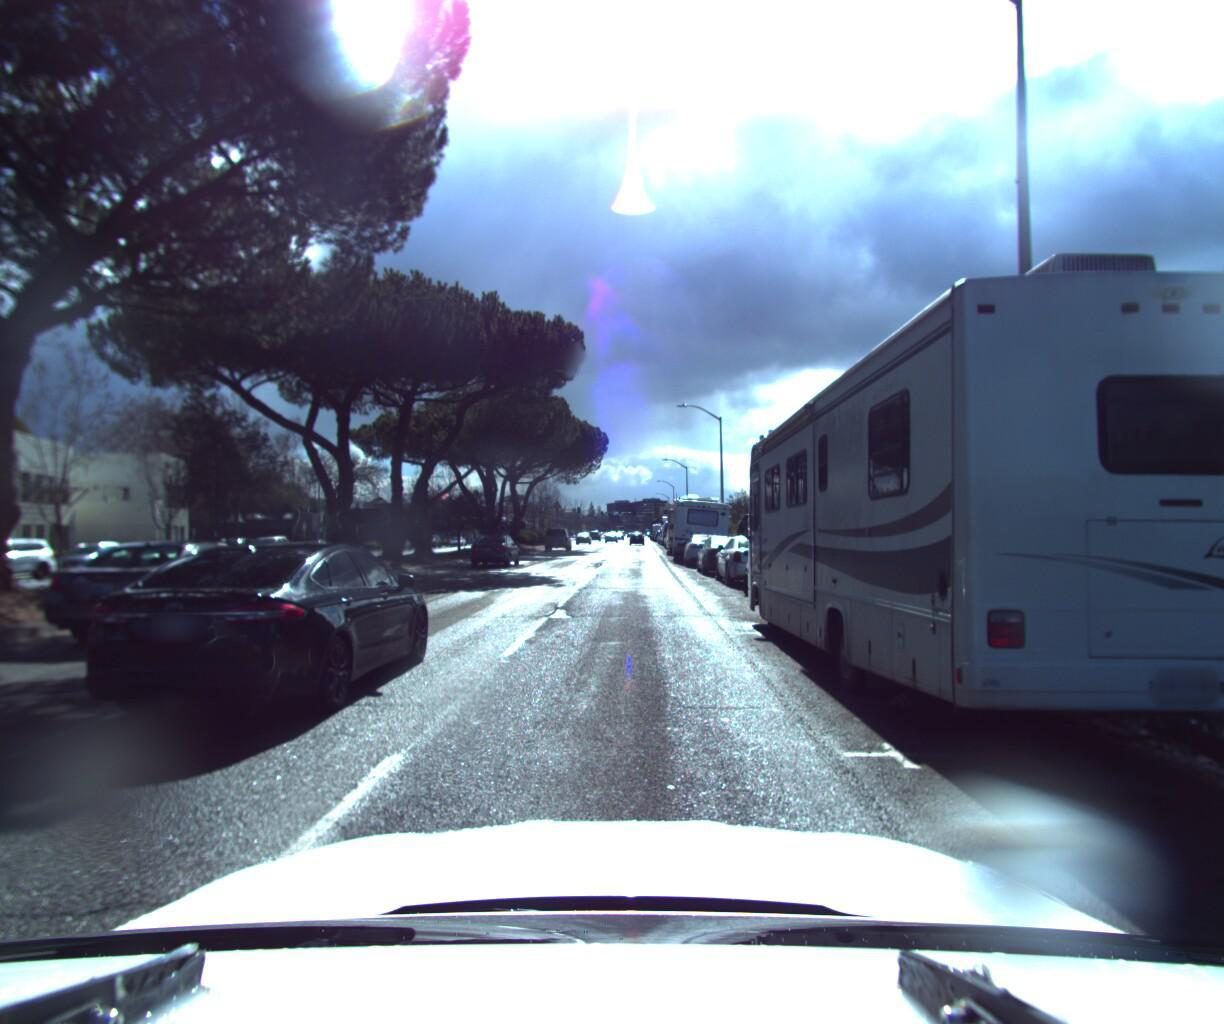car: (63, 526, 442, 731), (42, 537, 293, 652), (737, 525, 877, 609), (713, 527, 798, 584), (44, 540, 142, 582), (0, 535, 71, 588), (696, 529, 755, 573), (461, 527, 524, 564), (238, 533, 307, 562), (683, 527, 729, 565), (542, 524, 574, 546)
other_vehicle: (732, 179, 1224, 810), (671, 491, 735, 560), (663, 498, 712, 551)
